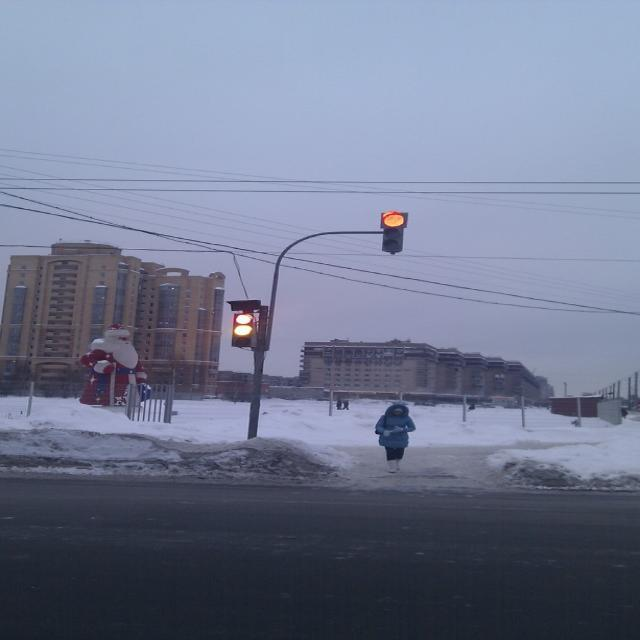traffic light: (382, 208, 407, 254)
